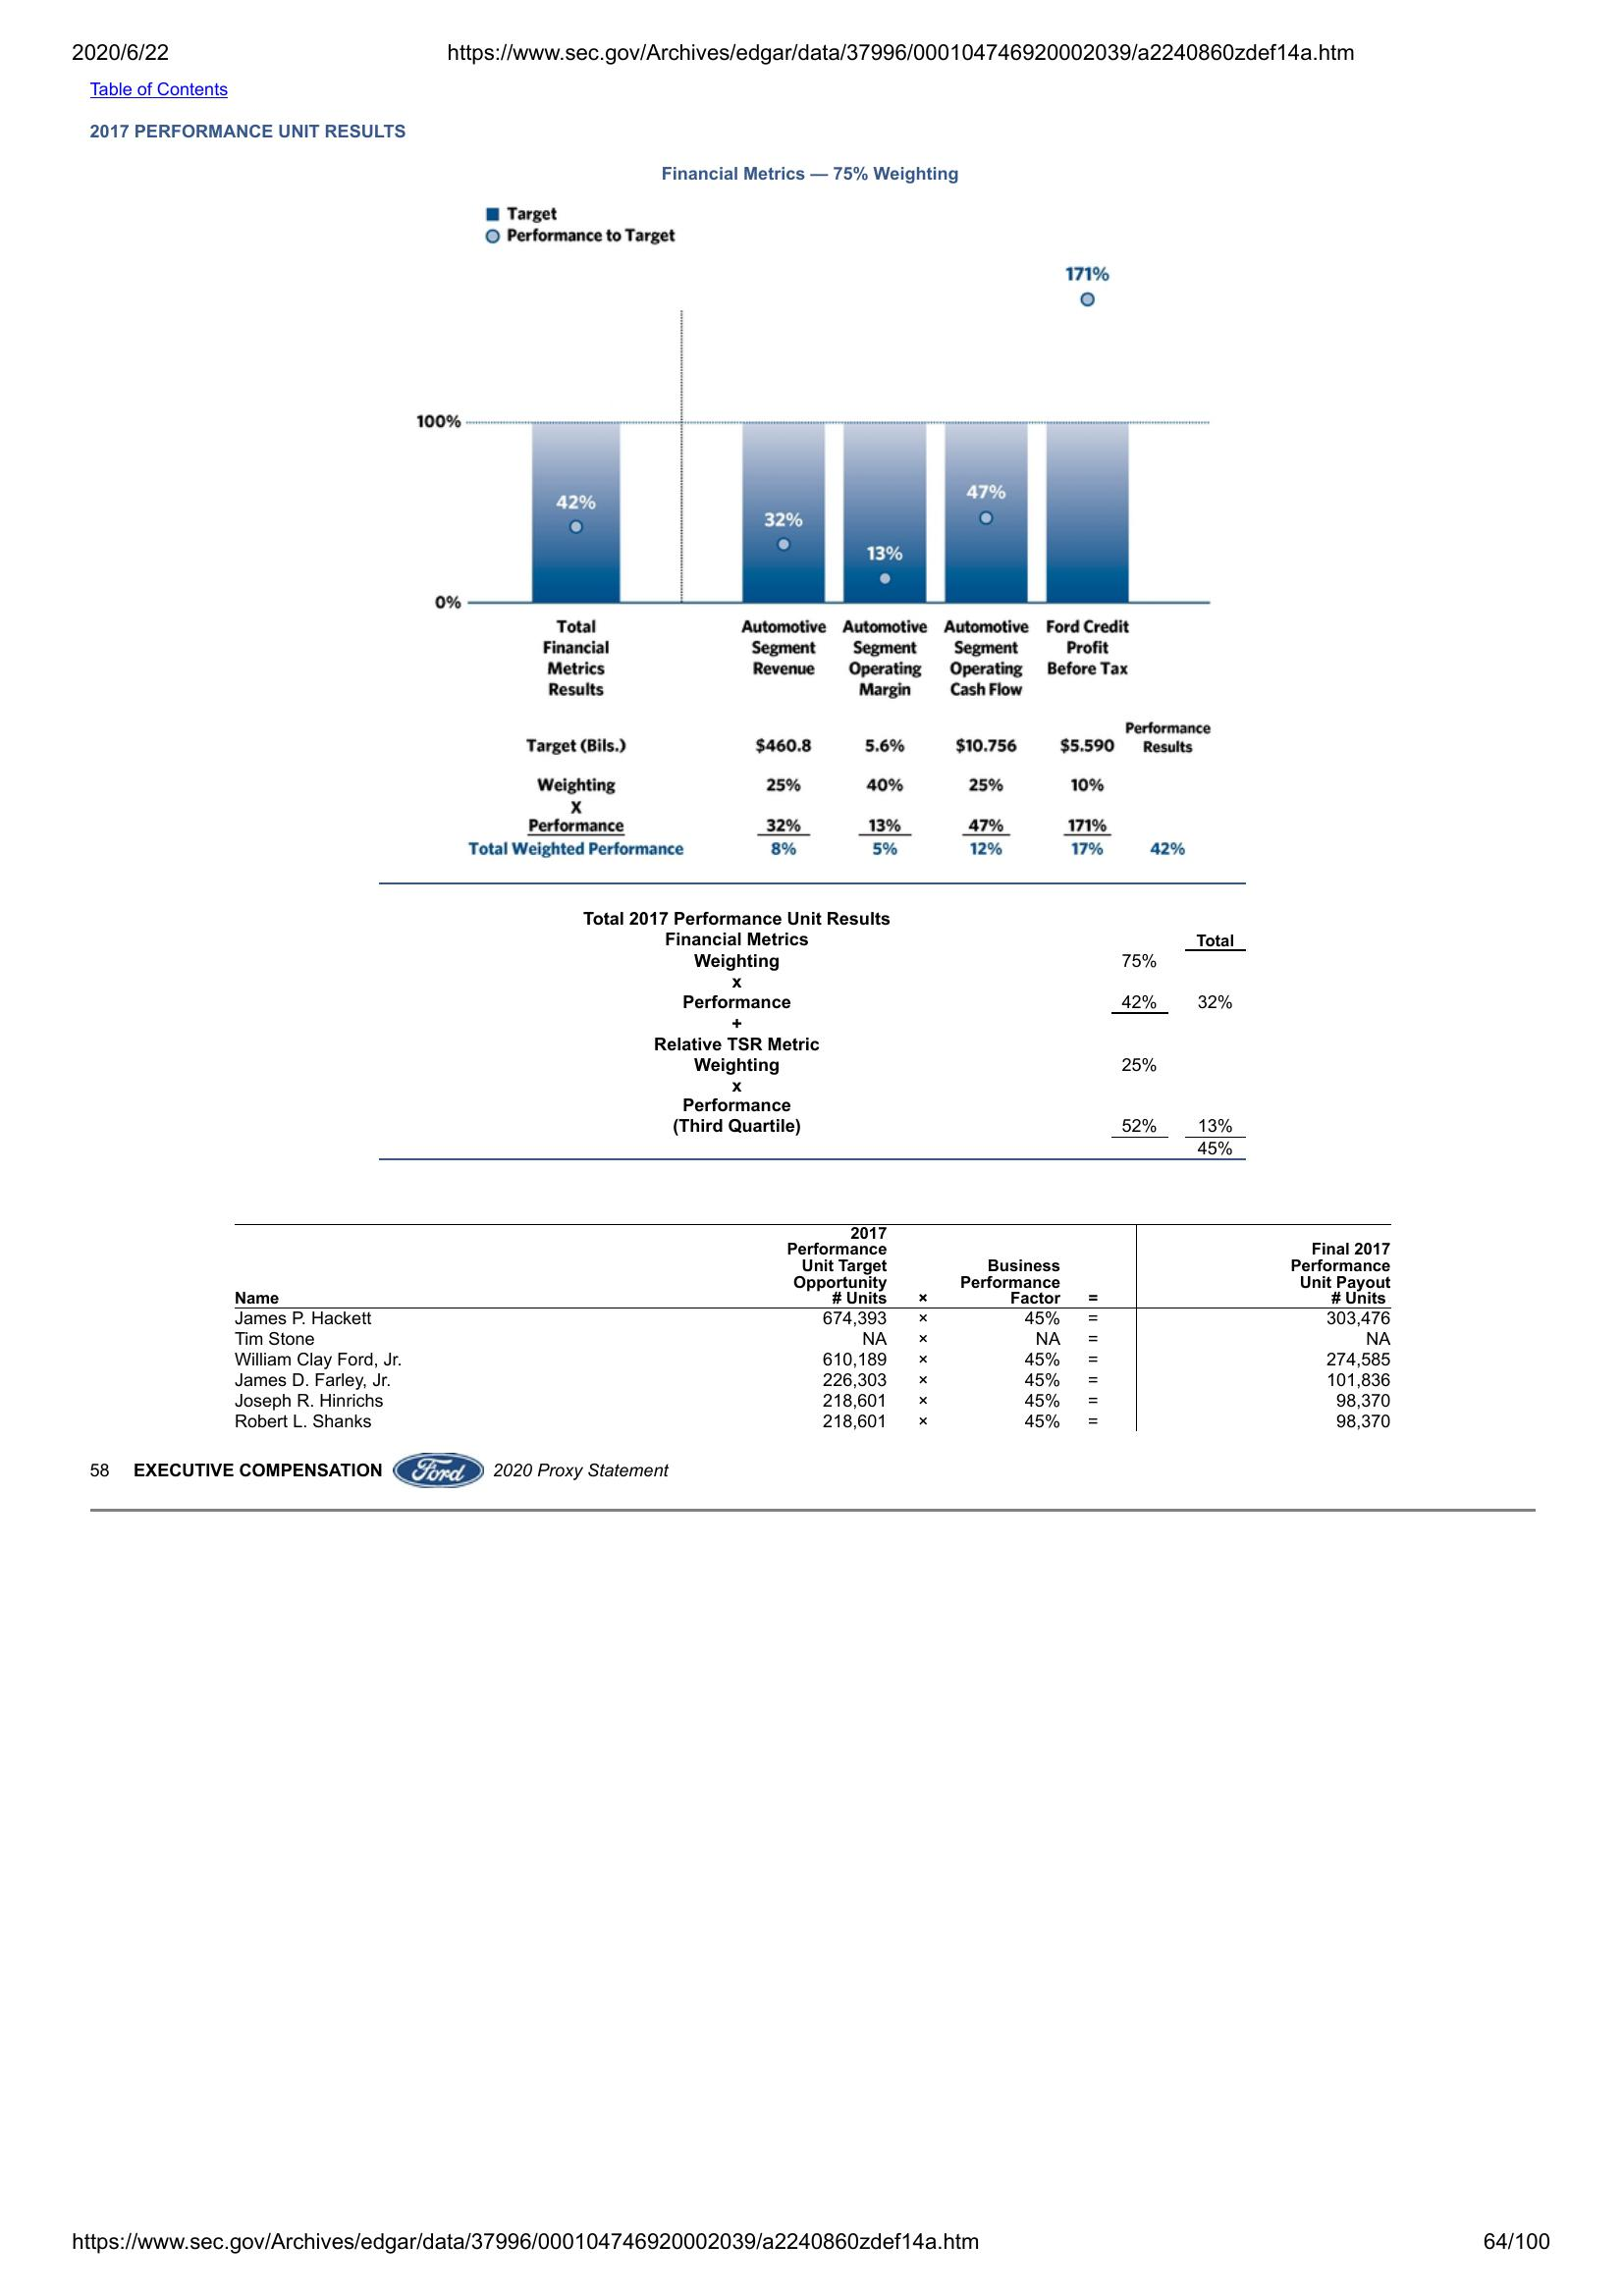table: (374, 874, 1279, 1181), (228, 1216, 1400, 1445), (460, 714, 1217, 865)
